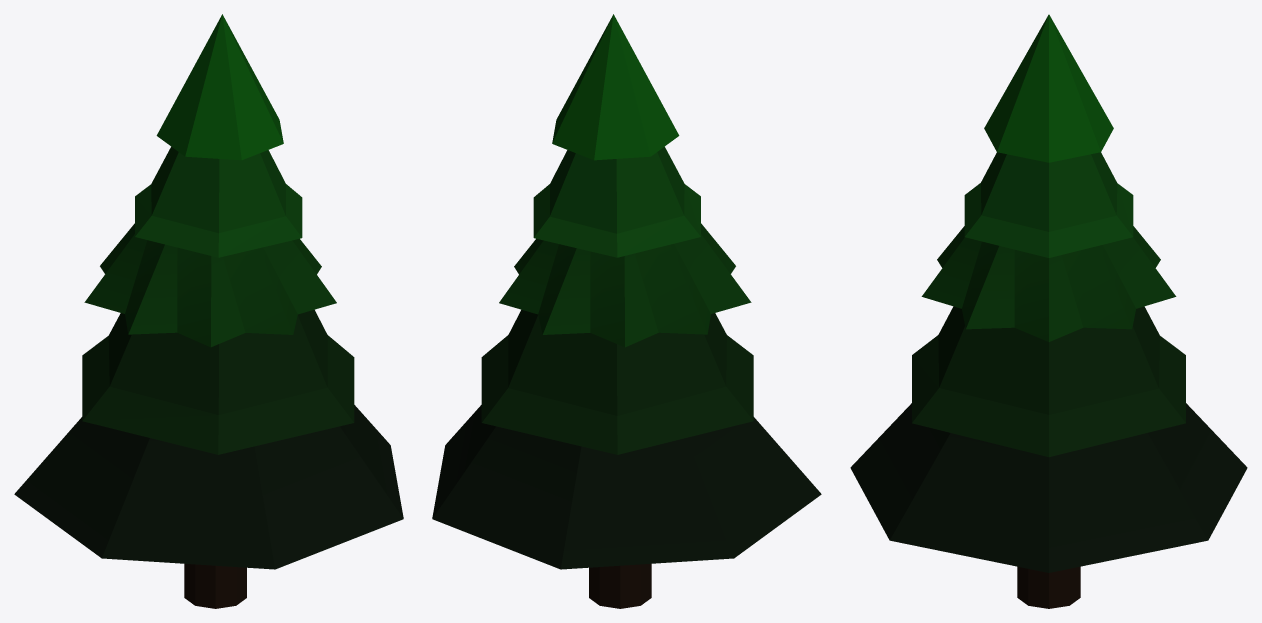
The model's file is Tanne_Middle_lp.FBX.
3 renders of one model, left to right at view 1: azimuth 30°, elevation 25°; view 2: azimuth 150°, elevation 25°; view 3: azimuth 270°, elevation 25°, orthographic.
Parts seen in each view (by area): view 1: Tanne_lp; view 2: Tanne_lp; view 3: Tanne_lp.
Part boxes in pixels (<box>): Tanne_lp: <box>14,14,403,608</box>; Tanne_lp: <box>432,14,821,608</box>; Tanne_lp: <box>850,14,1247,608</box>.
Size of the model in its own units: 2.86 by 4.76 by 2.93.
